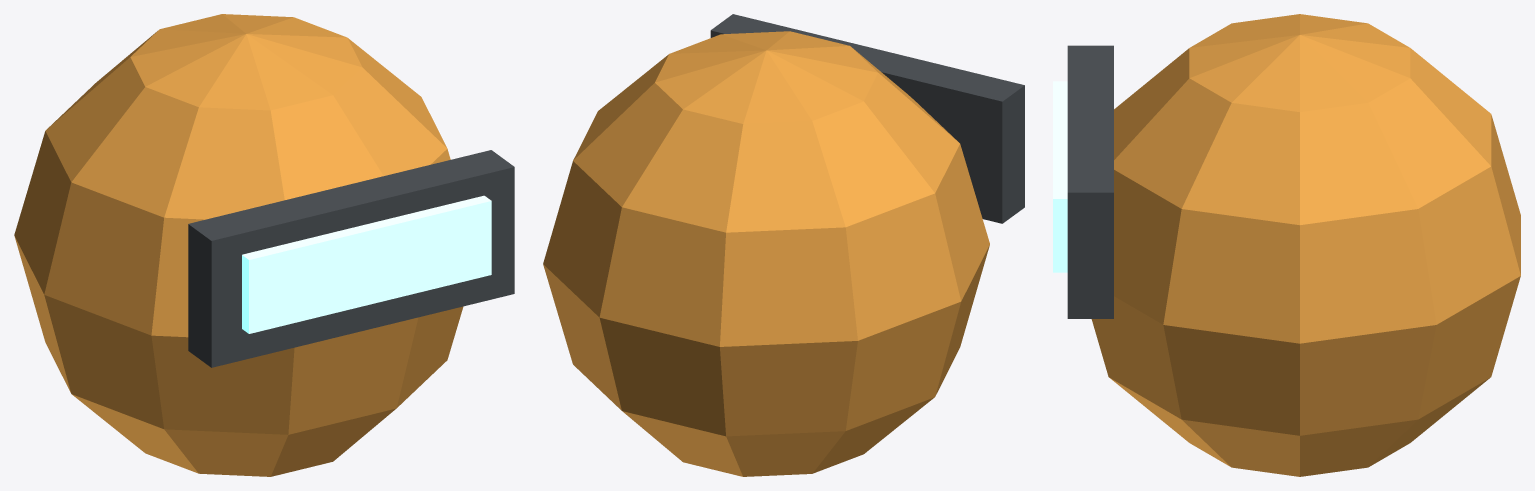
Rendered from mech-hangar-and-battle-frames-pilot-helmet-8b8b2ed5__26996.glb.
The picture shows the model from 3 angles, left to right: view 1: azimuth 30°, elevation 25°; view 2: azimuth 150°, elevation 25°; view 3: azimuth 270°, elevation 25°; orthographic projection. The views are drawn at different scales.
Parts seen in each view (by area): view 1: pilot-helmet; view 2: pilot-helmet; view 3: pilot-helmet.
Boxes of the visible parts, x1,y1,x2,y2 form: pilot-helmet: (14,14,514,476); pilot-helmet: (543,14,1024,476); pilot-helmet: (1053,14,1520,476).
Bounding box in the file's own units: 0.4 × 0.4 × 0.4027.
